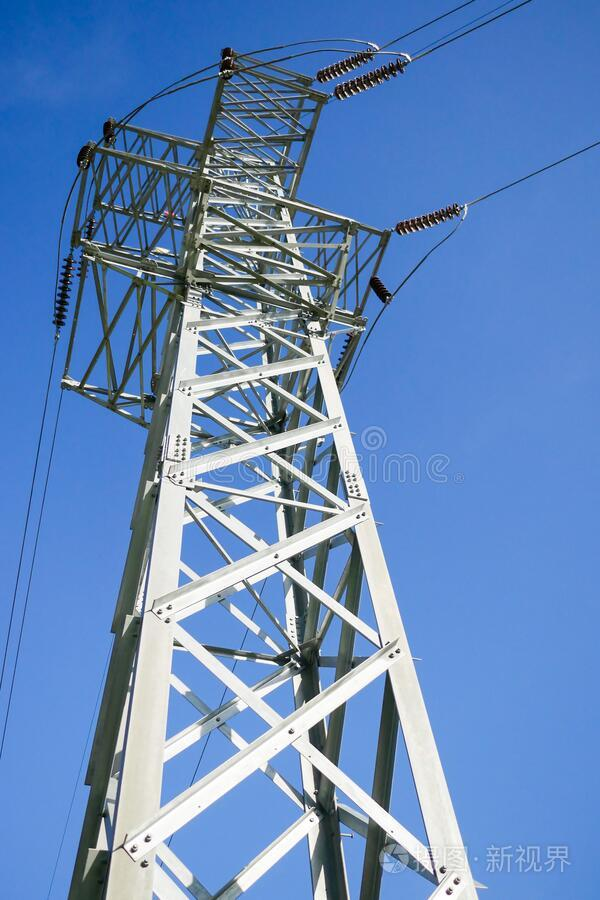insulator: (333, 59, 407, 103), (393, 203, 465, 237), (313, 48, 378, 85), (48, 255, 77, 329)
